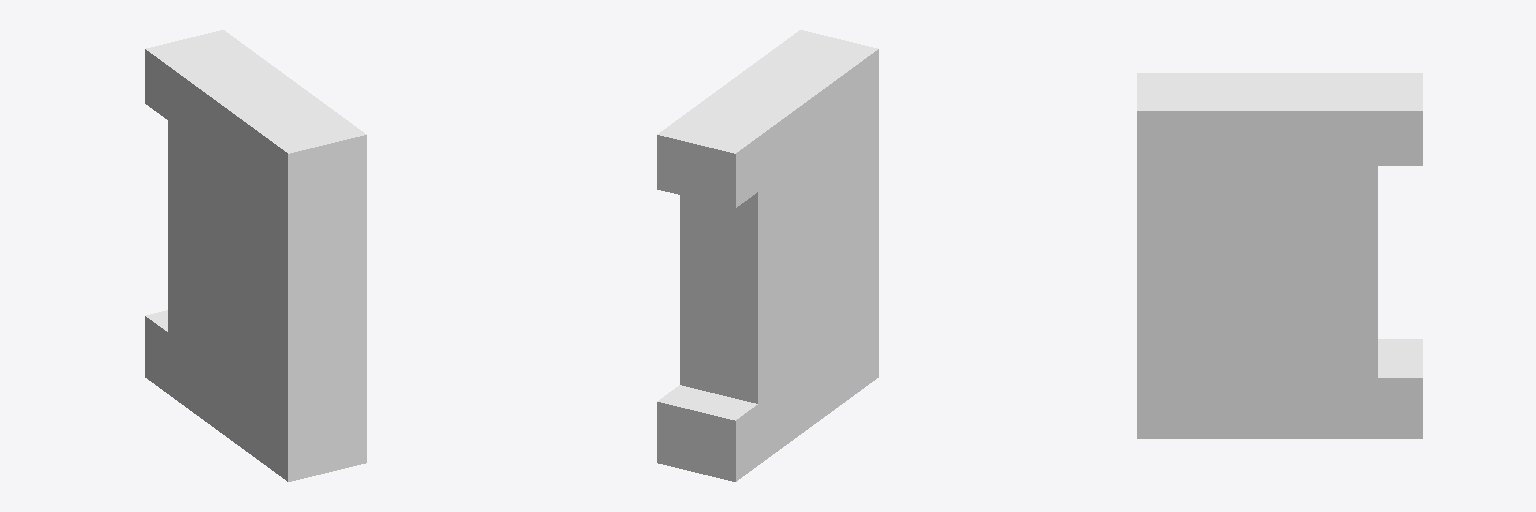
Rendered from gym-39.obj.
3 renders of one model, left to right at view 1: azimuth 30°, elevation 25°; view 2: azimuth 150°, elevation 25°; view 3: azimuth 270°, elevation 25°, orthographic.
Parts seen in each view (by area): view 1: object 1; view 2: object 1; view 3: object 1.
Boxes of the visible parts, x1,y1,x2,y2 form: object 1: [145, 30, 366, 481]; object 1: [657, 30, 878, 481]; object 1: [1137, 73, 1422, 438].
Bounding box in the file's own units: 1.2 × 4.8 × 3.8.